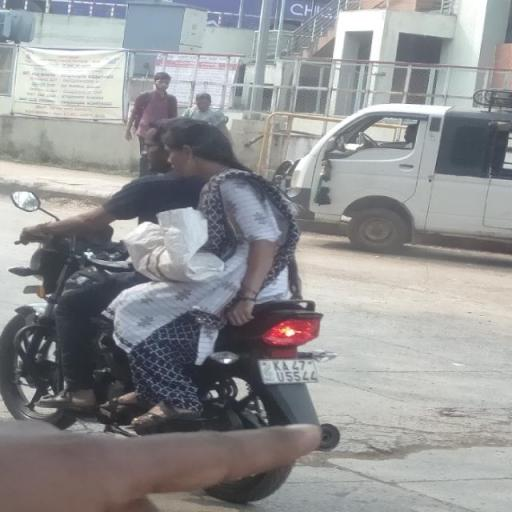bike: (8, 112, 356, 490)
numberplate: (258, 356, 328, 384)
withouthelmet: (167, 120, 220, 174), (144, 126, 166, 175)
